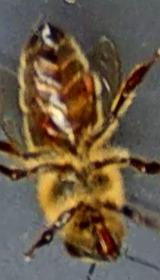varroa_mite: (34, 104, 61, 146)
